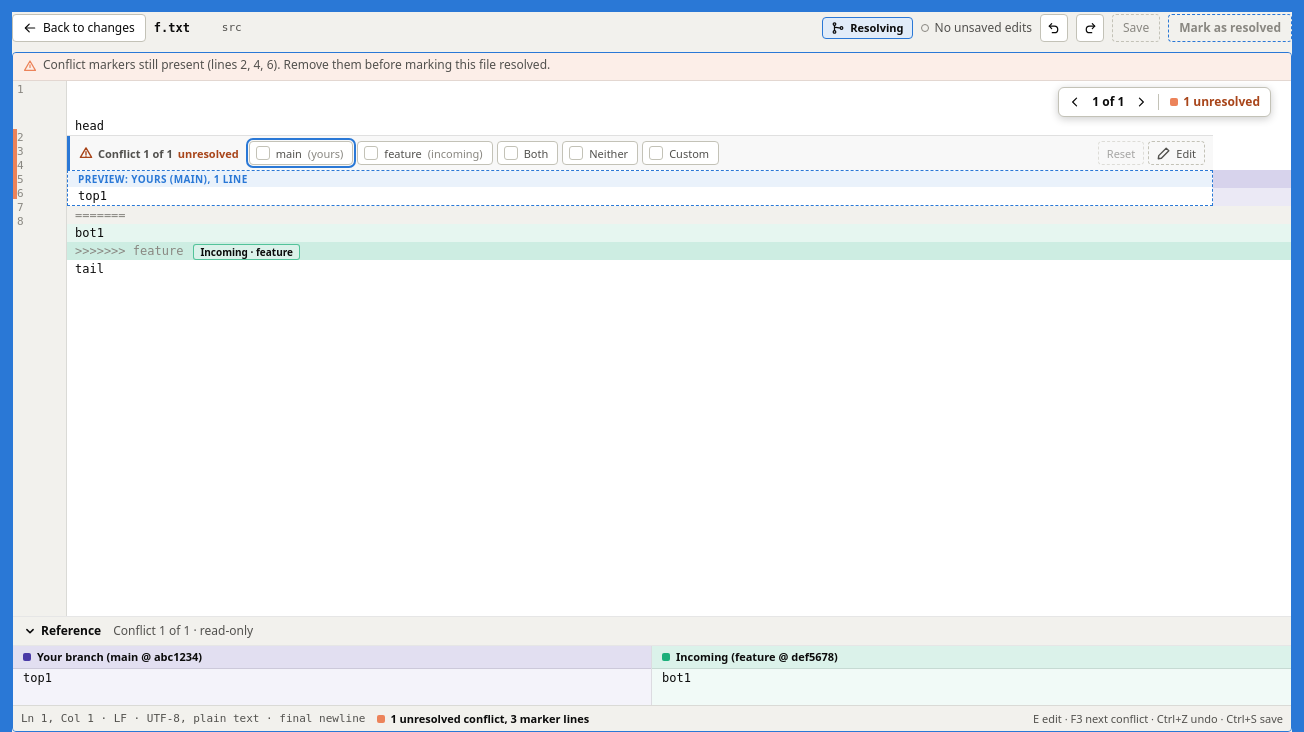
Test: Q1 LOCK_BLOCK_TEXT_IN_RESOLVING = false (default) › the hint says only the text outside the blocks is read-only
Expected: the field named "Editing src/f.txt" is shown, [67, 119, 1291, 276]
Click the button "main (yours)". click: (301, 153)
box: [249, 141, 353, 165]
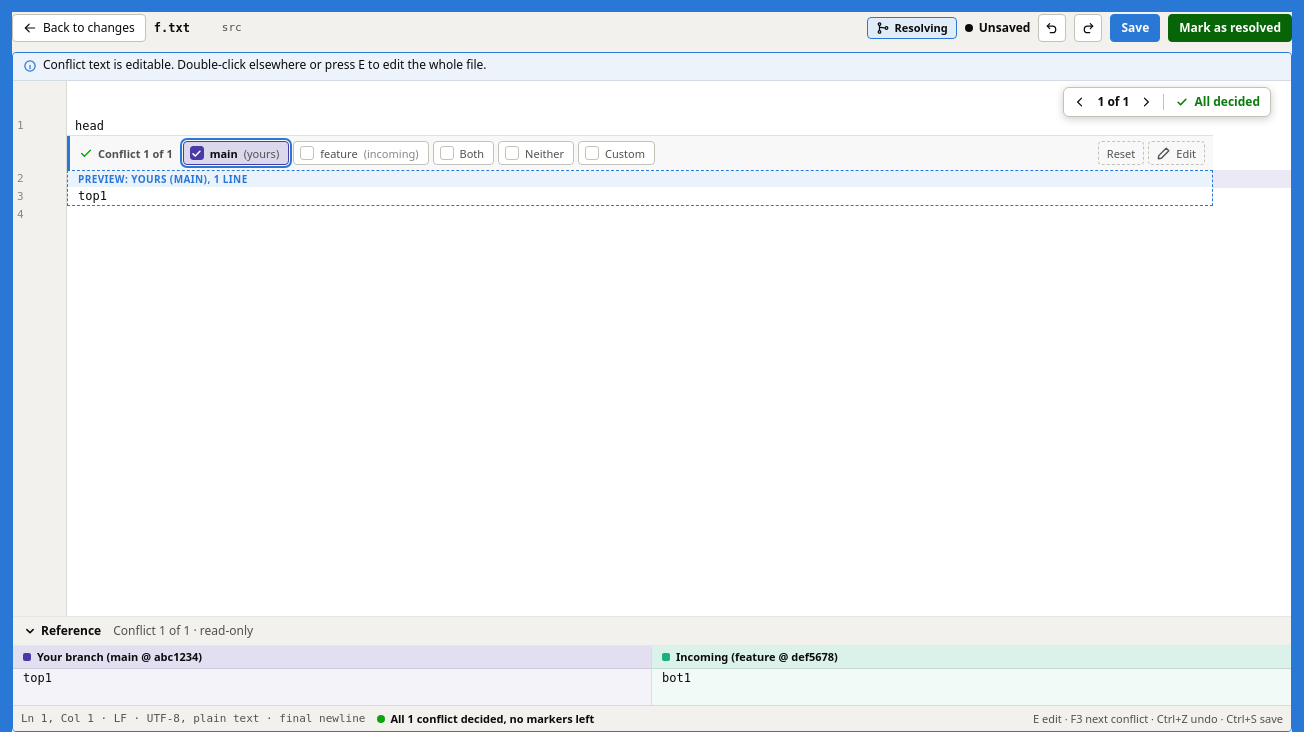
Expected: the element with test id "editor-slot" shows "Conflict text is editable. Double-click elsewhere or press E to edit the whole file.", [43, 56, 486, 73]
